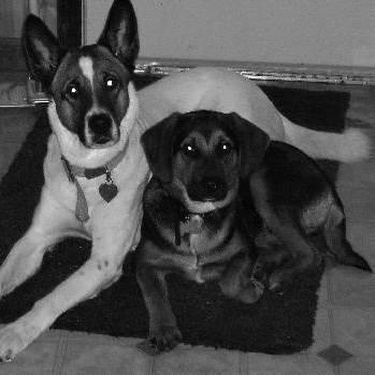dog: (1, 4, 370, 368), (119, 106, 371, 359)
